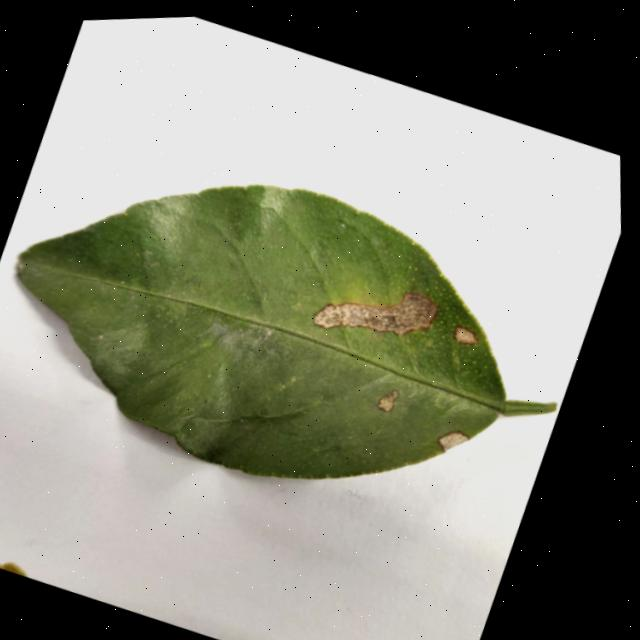antracnose: (17, 184, 555, 477), (313, 291, 437, 334), (437, 430, 468, 450), (376, 388, 398, 410), (453, 324, 476, 343)
